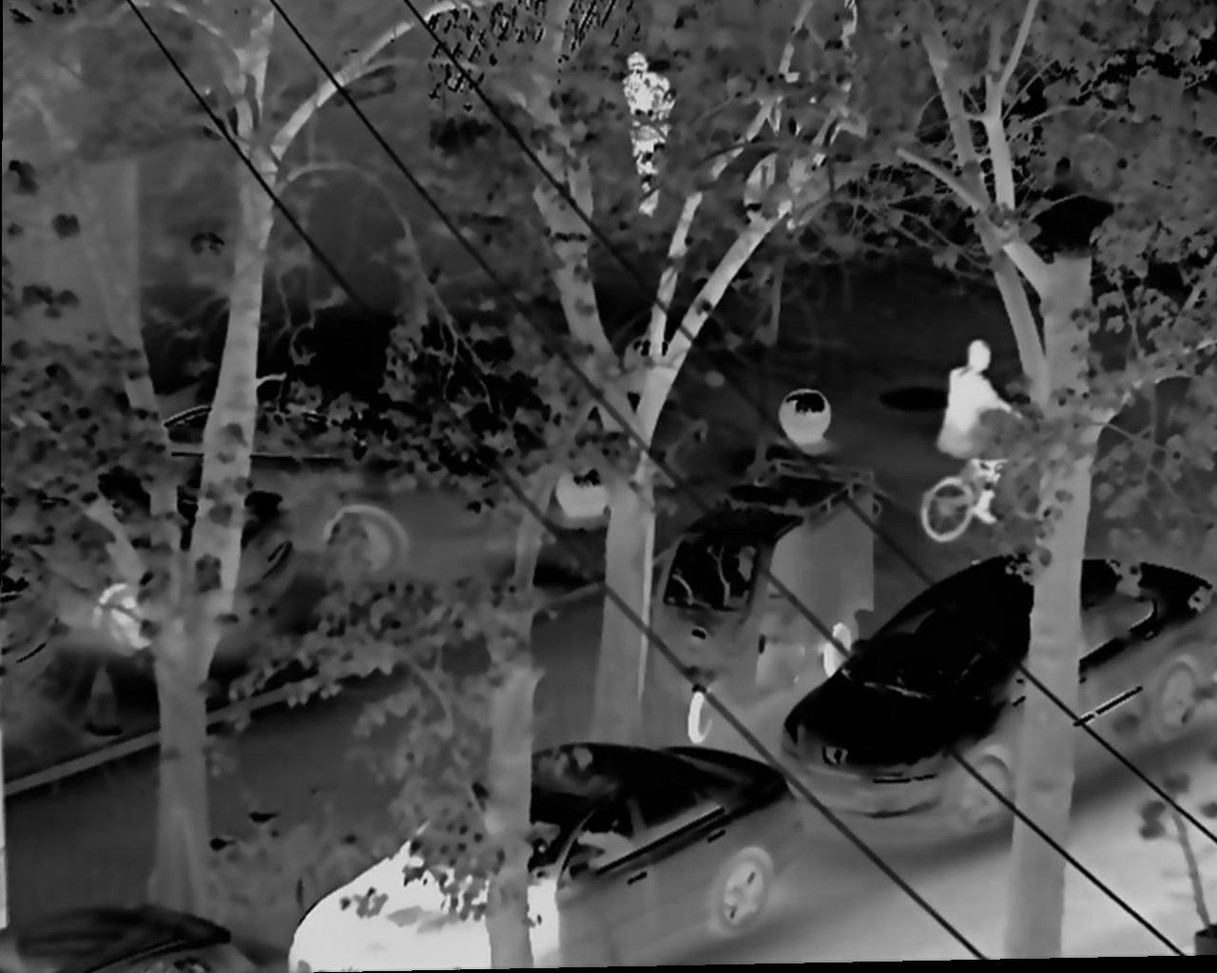person: (920, 320, 1011, 516), (612, 48, 685, 227)
